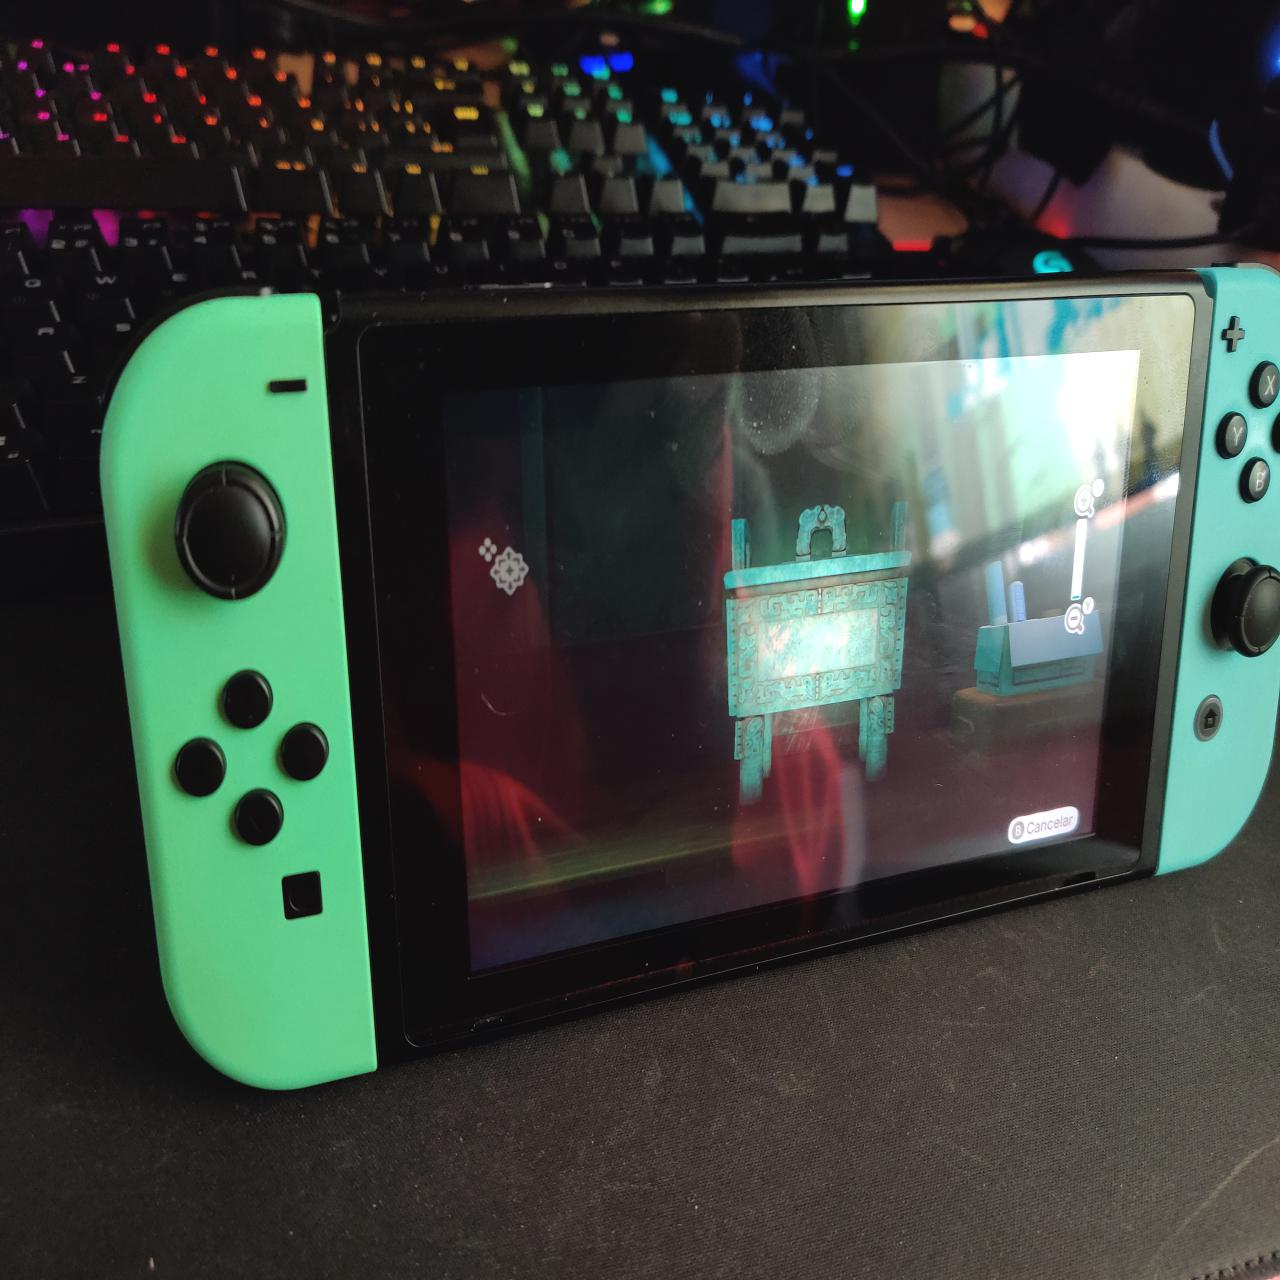HoumuwuDingFake: (727, 493, 915, 812)
